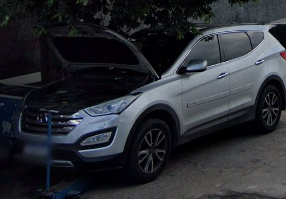car: (13, 24, 286, 182)
